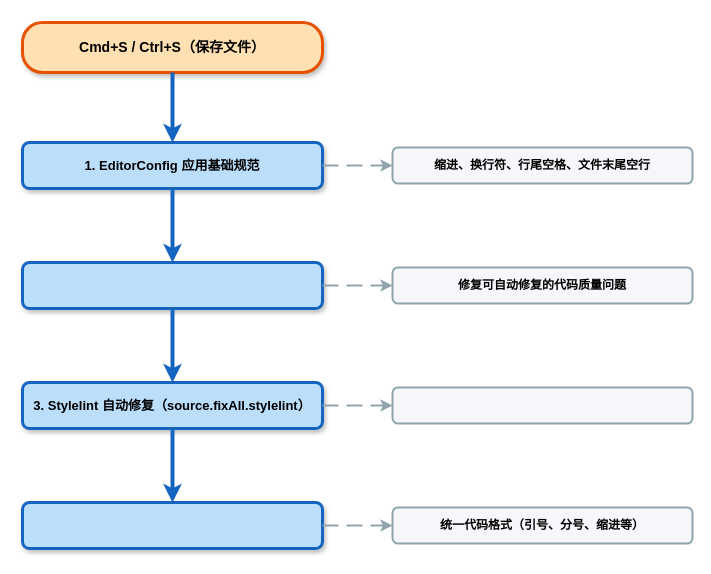
Some shapes in this 711 by 574 pixel diagram are drawn without their labels. Each missing label, with the centre of its shape:
"2. ESLint 自动修复（source.fixAll.eslint）" goes at (173,286).
"4. Prettier 格式化（editor.formatOnSave）" goes at (173,526).
"修复 CSS/SCSS/Vue 样式问题" goes at (542,405).
